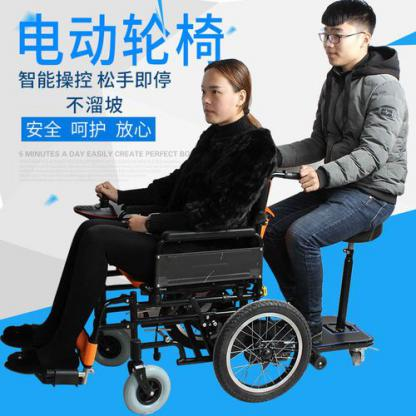wheelchair: (3, 55, 314, 413)
